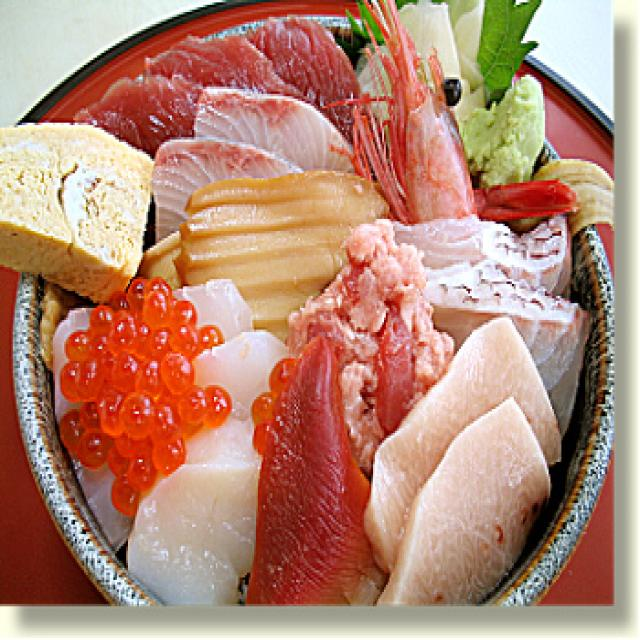刺身生食: (0, 0, 611, 602)
